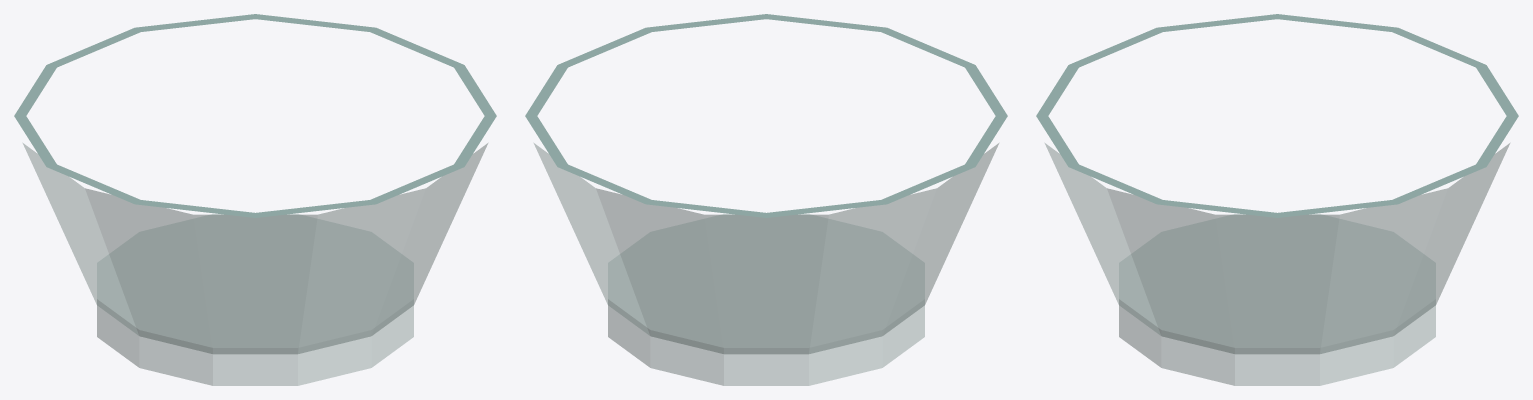
File: glass_bowl.glb
The picture shows the model from 3 angles, left to right: view 1: azimuth 30°, elevation 25°; view 2: azimuth 150°, elevation 25°; view 3: azimuth 270°, elevation 25°; orthographic projection.
Parts seen in each view (by area): view 1: block_raised sides, block_thick foot, block_rolled rim 9, block_rolled rim 10, block_rolled rim 3, block_rolled rim 4, block_rolled rim 2, block_rolled rim 5, block_rolled rim 8, block_rolled rim 11, block_rolled rim 0, block_rolled rim 1 (+2 smaller); view 2: block_raised sides, block_thick foot, block_rolled rim 1, block_rolled rim 2, block_rolled rim 7, block_rolled rim 8, block_rolled rim 6, block_rolled rim 9, block_rolled rim 0, block_rolled rim 3, block_rolled rim 4, block_rolled rim 5 (+2 smaller); view 3: block_raised sides, block_thick foot, block_rolled rim 5, block_rolled rim 6, block_rolled rim 0, block_rolled rim 11, block_rolled rim 1, block_rolled rim 10, block_rolled rim 4, block_rolled rim 7, block_rolled rim 2, block_rolled rim 3 (+2 smaller).
Boxes of the visible parts, <box> form: block_raised sides: <box>23,143,487,354</box>; block_thick foot: <box>97,214,413,385</box>; block_rolled rim 9: <box>135,14,255,31</box>; block_rolled rim 10: <box>255,14,375,31</box>; block_rolled rim 3: <box>255,200,375,217</box>; block_rolled rim 4: <box>135,200,255,217</box>; block_rolled rim 2: <box>370,164,463,204</box>; block_rolled rim 5: <box>47,164,140,204</box>; block_rolled rim 8: <box>47,27,140,67</box>; block_rolled rim 11: <box>370,27,463,67</box>; block_rolled rim 0: <box>454,65,496,115</box>; block_rolled rim 1: <box>454,116,496,166</box>; block_raised sides: <box>534,143,998,354</box>; block_thick foot: <box>608,214,924,385</box>; block_rolled rim 1: <box>646,14,766,31</box>; block_rolled rim 2: <box>766,14,886,31</box>; block_rolled rim 7: <box>766,200,886,217</box>; block_rolled rim 8: <box>646,200,766,217</box>; block_rolled rim 6: <box>881,164,974,204</box>; block_rolled rim 9: <box>558,164,651,204</box>; block_rolled rim 0: <box>558,27,651,67</box>; block_rolled rim 3: <box>881,27,974,67</box>; block_rolled rim 4: <box>965,65,1007,115</box>; block_rolled rim 5: <box>965,116,1007,166</box>; block_raised sides: <box>1045,143,1509,354</box>; block_thick foot: <box>1119,214,1435,385</box>; block_rolled rim 5: <box>1157,14,1277,31</box>; block_rolled rim 6: <box>1277,14,1397,31</box>; block_rolled rim 0: <box>1157,200,1277,217</box>; block_rolled rim 11: <box>1277,200,1397,217</box>; block_rolled rim 1: <box>1069,164,1162,204</box>; block_rolled rim 10: <box>1392,164,1485,204</box>; block_rolled rim 4: <box>1069,27,1162,67</box>; block_rolled rim 7: <box>1392,27,1485,67</box>; block_rolled rim 2: <box>1036,116,1078,166</box>; block_rolled rim 3: <box>1036,65,1078,115</box>.
Bounding box in the file's own units: 0.13 × 0.0603 × 0.13.
Materials: 2 (2 with a texture image).
